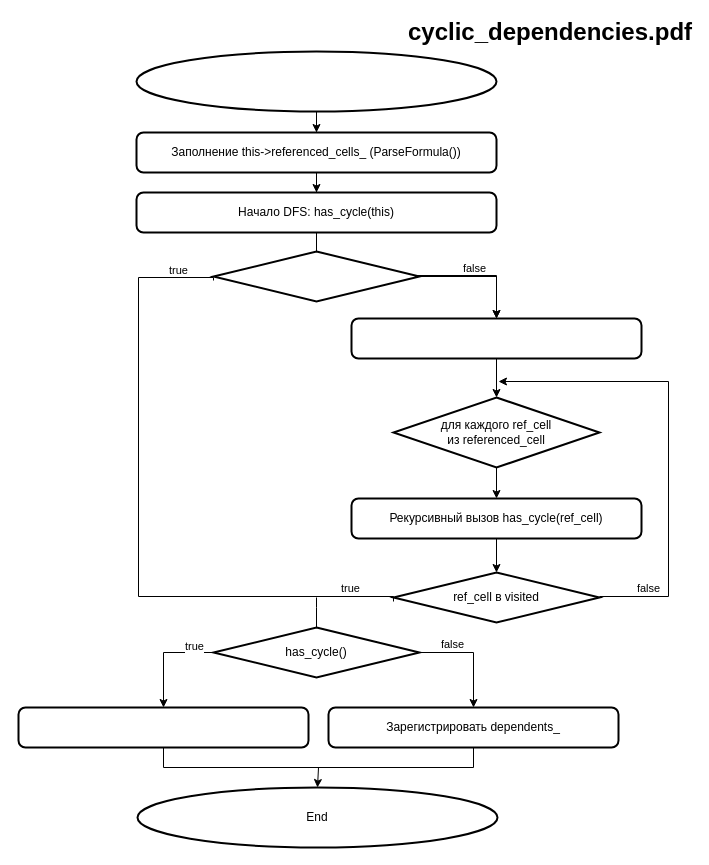
The diagram is 709 pixels wide and 865 high, and some of its shapes have lost their labels. The box of each missing label's shape, as (x1, y1, x2, y2) in pixels:
Cell::Set(): (135, 50, 497, 112)
this в visited: (212, 250, 420, 302)
throw CircularDependencyException: (17, 706, 309, 748)
Занесение this в visited: (350, 317, 642, 359)
